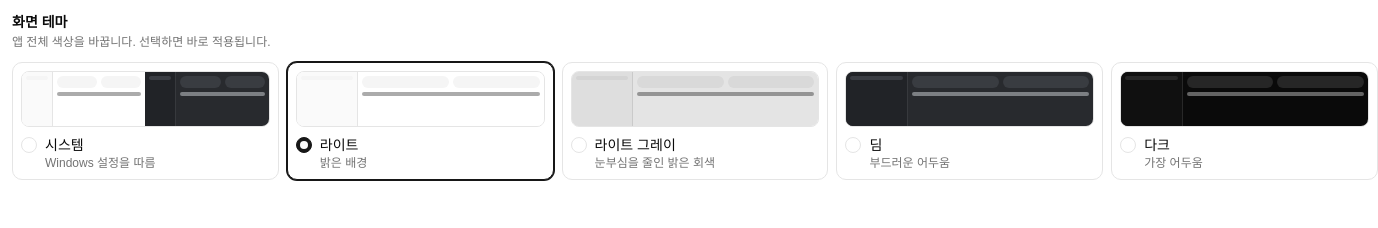
ThemeSection › T-ui-theme-set-07 [Validation] 저장 실패 시 인라인 오류를 표시한다
Click the radio button named "다크".
click(1128, 145)  # box [1120,137,1136,153]
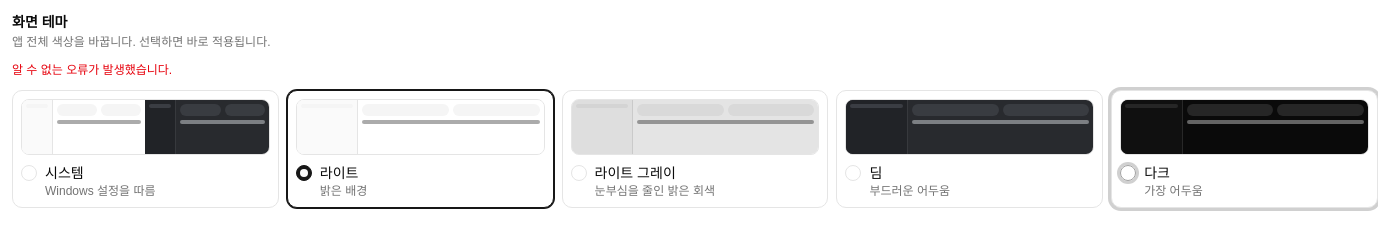
Expected: the message "알 수 없는 오류가 발생했습니다." is shown, [12,63,172,77]
